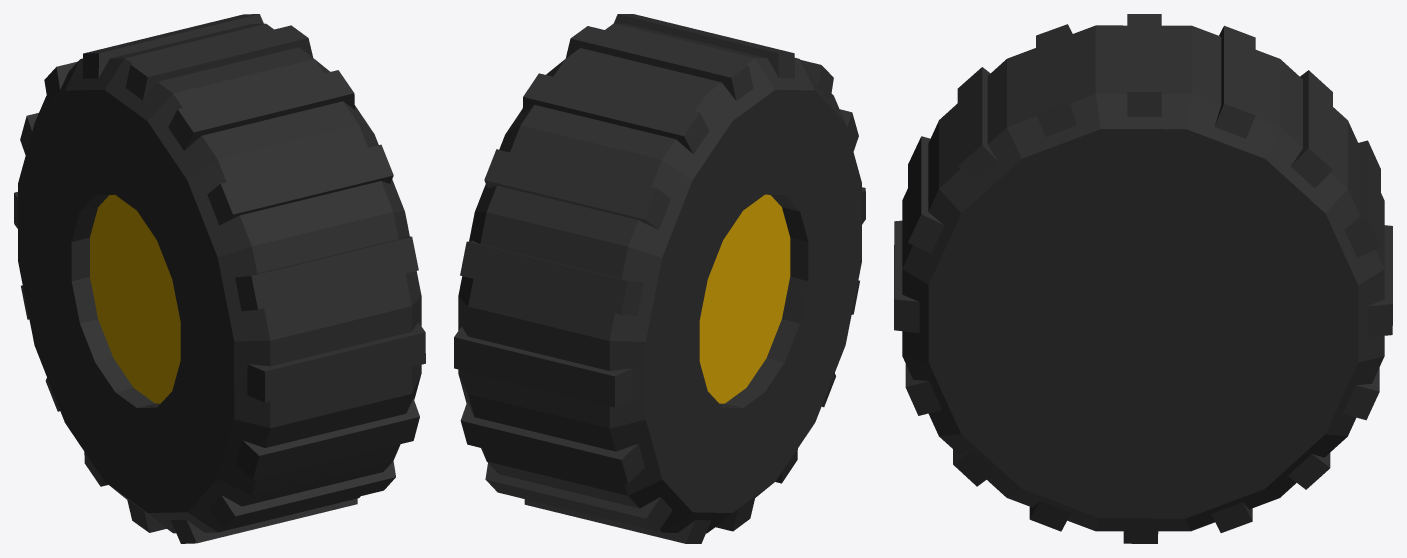
Rendered from Big_WH.fbx.
3 views of the same model, side by side, from view 1: azimuth 30°, elevation 25°; view 2: azimuth 150°, elevation 25°; view 3: azimuth 270°, elevation 25° (orthographic).
Visible parts, largest first — view 1: Cylinder.001, Cube.006; view 2: Cylinder.001, Cube.006; view 3: Cylinder.001, Cube.006.
Boxes of the visible parts, x1=… form: Cylinder.001: x1=18, y1=23, x2=421, y2=533; Cube.006: x1=14, y1=14, x2=425, y2=543; Cylinder.001: x1=458, y1=23, x2=861, y2=533; Cube.006: x1=454, y1=14, x2=865, y2=543; Cylinder.001: x1=902, y1=25, x2=1384, y2=531; Cube.006: x1=894, y1=14, x2=1392, y2=543.
Bounding box in the file's own units: 130 × 302 × 302.
